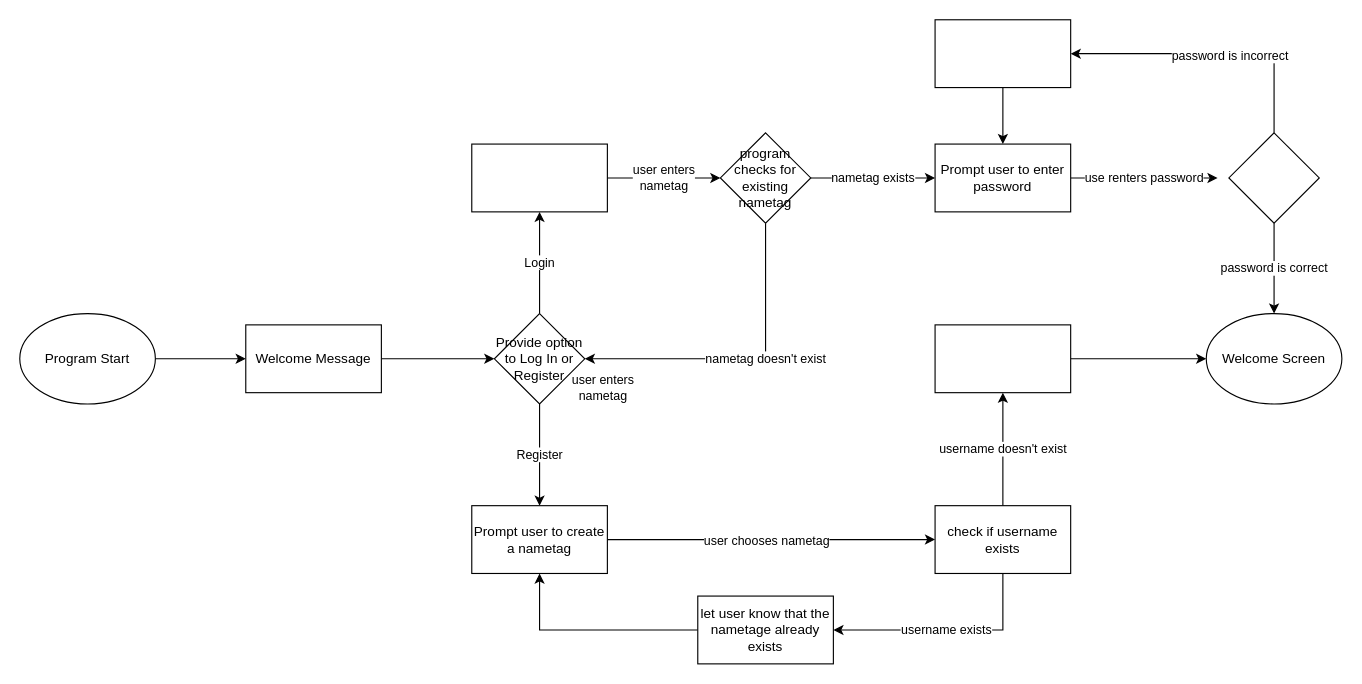
This 1362x684 diagram has some shape labels left out. Each missing label, with the box of its shape:
Generate Password and ask user to save it.: (934, 324, 1071, 393)
Program checks if password matches records: (1228, 132, 1319, 223)
Request User to enter nametag: (471, 143, 607, 212)
Show a message that the password is incorrect: (934, 19, 1071, 88)
